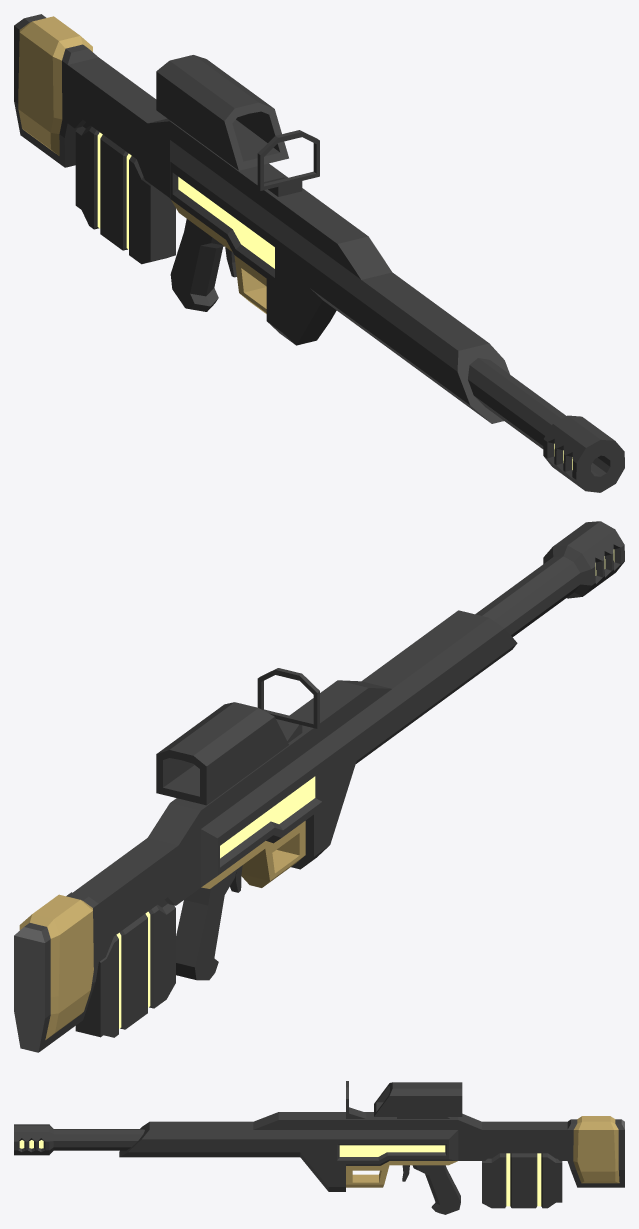
The model's file is SniperRifle.fbx.
3 renders of one model, top to bottom at view 1: azimuth 30°, elevation 25°; view 2: azimuth 150°, elevation 25°; view 3: azimuth 270°, elevation 25°, orthographic. The views are drawn at different scales.
Visible parts, largest first — view 1: SniperRifle; view 2: SniperRifle; view 3: SniperRifle.
Boxes of the visible parts, box(x1,y1,x2,y2) form: SniperRifle: box(14, 14, 624, 492); SniperRifle: box(14, 521, 624, 1052); SniperRifle: box(14, 1081, 624, 1214).
Bounding box in the file's own units: 74.49 × 288 × 1235.
